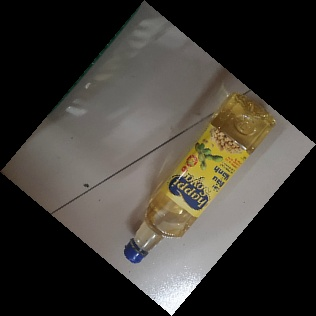Happy Soya: (124, 90, 277, 262)
